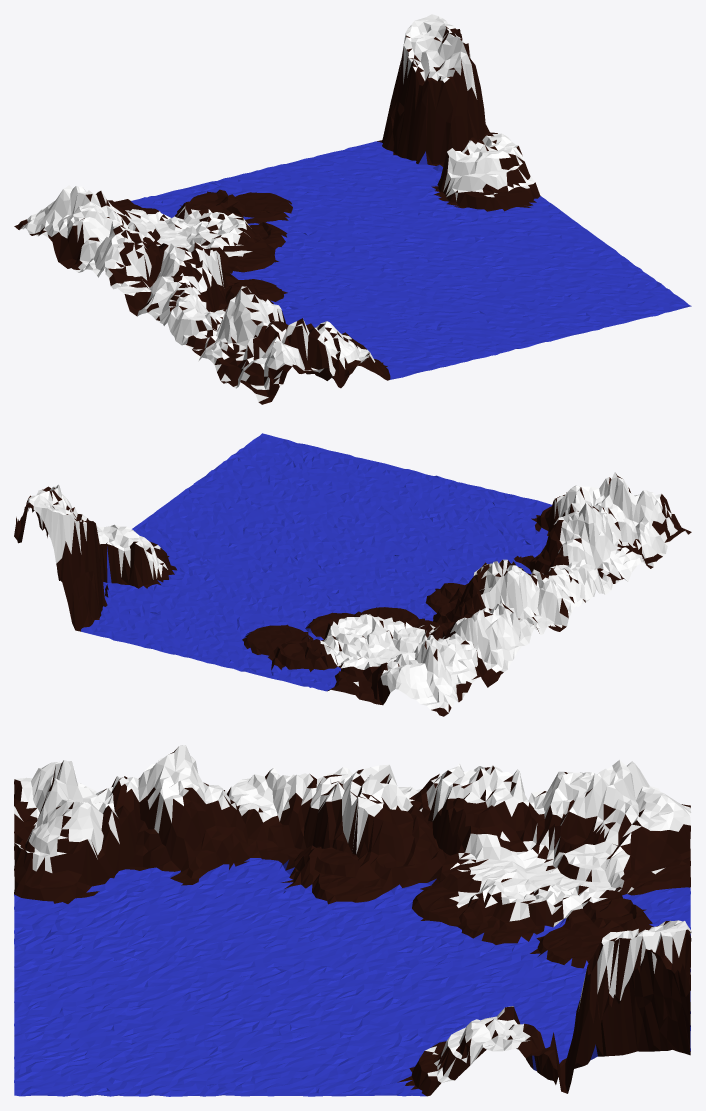
The model's file is third.fbx.
3 views of the same model, one above another, from view 1: azimuth 30°, elevation 25°; view 2: azimuth 150°, elevation 25°; view 3: azimuth 270°, elevation 25° (orthographic). The views are drawn at different scales.
Parts seen in each view (by area): view 1: Second; view 2: Second; view 3: Second.
Boxes of the visible parts, x1,y1,x2,y2 form: Second: (14,14,691,404); Second: (14,433,691,716); Second: (14,745,691,1096).
Size of the model in its own units: 50141 by 12954 by 50115.
